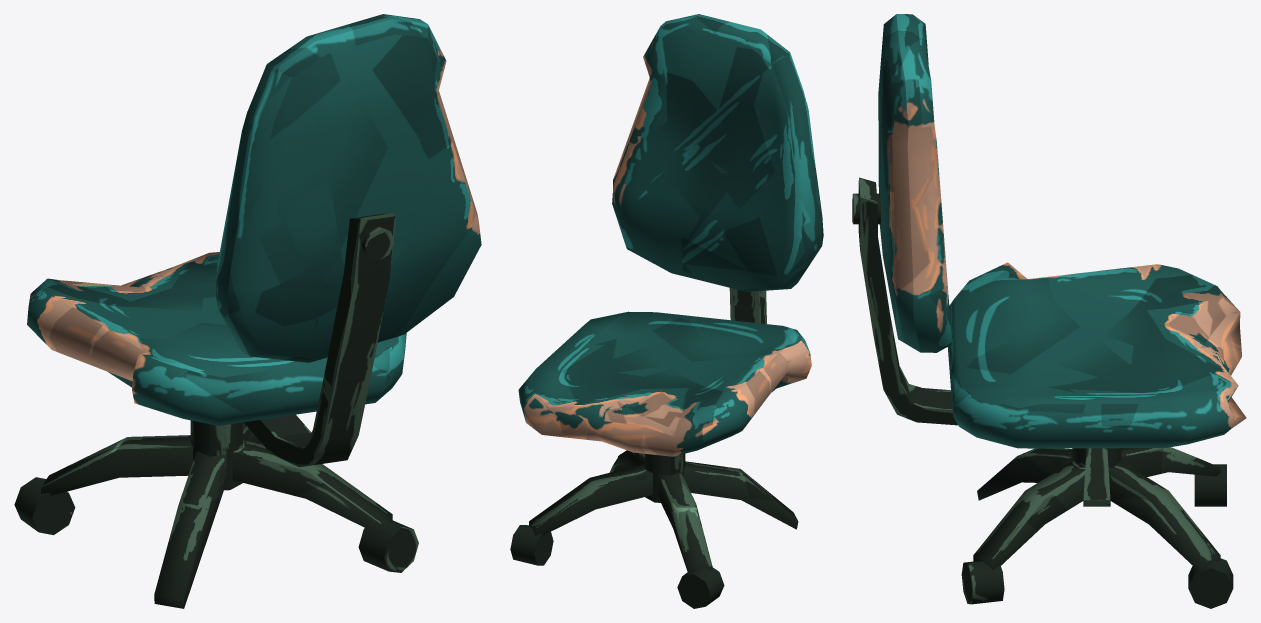
Rendered from Office_Chair_1.glb.
3 views of the same model, side by side, from view 1: azimuth 30°, elevation 25°; view 2: azimuth 150°, elevation 25°; view 3: azimuth 270°, elevation 25° (orthographic). The views are drawn at different scales.
Visible parts, largest first — view 1: Office_Chair_1; view 2: Office_Chair_1; view 3: Office_Chair_1.
Boxes of the visible parts, x1,y1,x2,y2 form: Office_Chair_1: (14, 14, 481, 608); Office_Chair_1: (510, 14, 823, 608); Office_Chair_1: (852, 14, 1246, 608).
Size of the model in its own units: 0.634 by 1.18 by 0.7868.
1 material, 1 textured.
